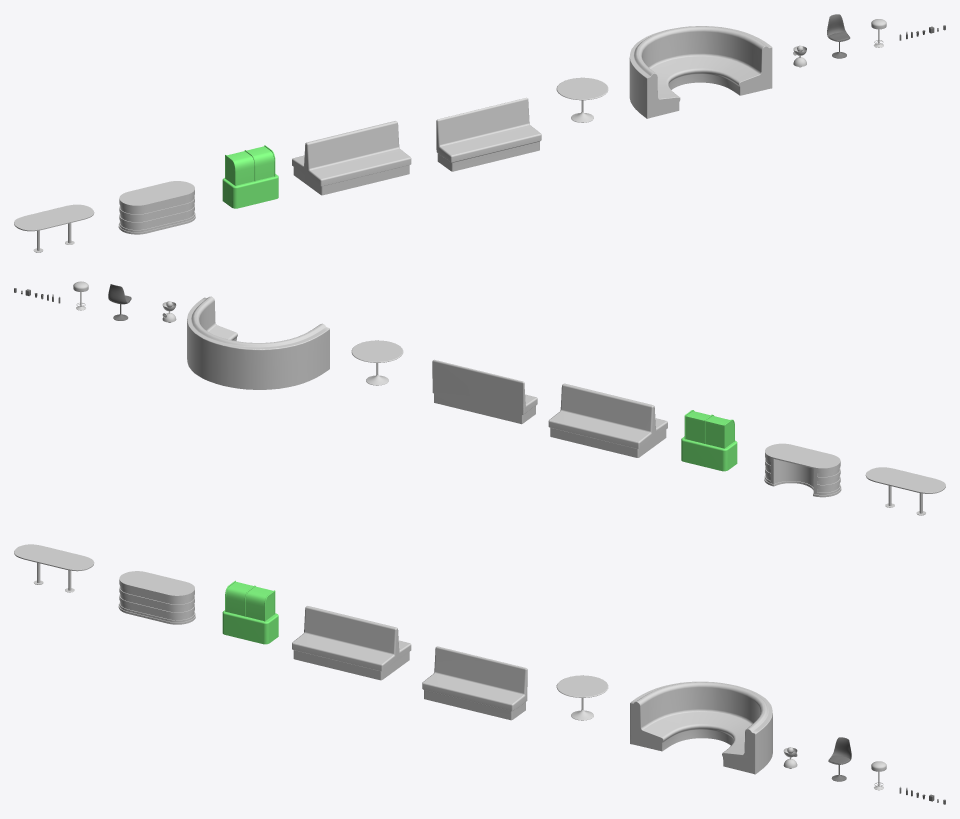
The model's file is BundlePropsRestaurant.fbx.
3 renders of one model, top to bottom at view 1: azimuth 30°, elevation 25°; view 2: azimuth 150°, elevation 25°; view 3: azimuth 330°, elevation 25°, orthographic.
Parts seen in each view (by area): view 1: Circle001, DinerSofa_Double, DinerSofa_Single, Desk, Buffet, RoundedLongTable, RoundTable, Chair; view 2: Circle001, DinerSofa_Double, DinerSofa_Single, Desk, Buffet, RoundedLongTable, RoundTable; view 3: Circle001, DinerSofa_Double, DinerSofa_Single, Desk, Buffet, RoundedLongTable, RoundTable, Chair.
Boxes of the visible parts, x1,y1,x2,y2 form: Circle001: (629, 26, 772, 118); DinerSofa_Double: (292, 121, 411, 195); DinerSofa_Single: (436, 97, 541, 171); Desk: (118, 181, 195, 234); Buffet: (222, 145, 278, 208); RoundedLongTable: (14, 204, 94, 252); RoundTable: (556, 77, 608, 122); Chair: (827, 14, 850, 58); Circle001: (187, 296, 329, 389); DinerSofa_Double: (548, 383, 667, 457); DinerSofa_Single: (432, 359, 537, 424); Desk: (764, 443, 841, 497); Buffet: (681, 410, 737, 471); RoundedLongTable: (865, 467, 945, 515); RoundTable: (351, 340, 403, 385); Circle001: (630, 681, 772, 774); DinerSofa_Double: (292, 606, 411, 680); DinerSofa_Single: (422, 646, 527, 720); Desk: (118, 571, 195, 624); Buffet: (222, 580, 278, 644); RoundedLongTable: (14, 544, 94, 592); RoundTable: (556, 675, 608, 720); Chair: (828, 737, 851, 781).
Size of the model in its own units: 40 by 2.21 by 3.76.
